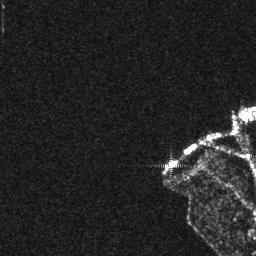ship: (182, 143, 197, 156)
